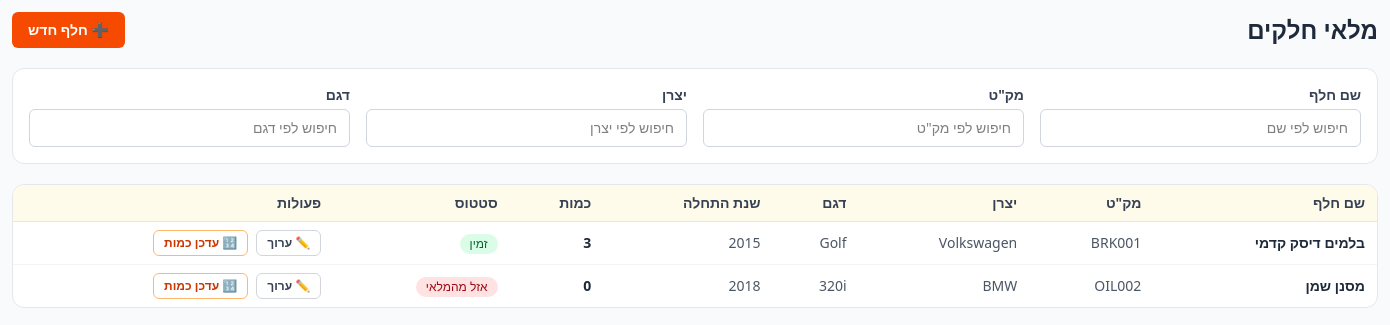
Test case: PartsPage — server-side search / filter › filters by part name using a backend query (partial)
Expected: the table is shown, [13,185,1377,307]
Type "מסנן" into the field labelled "שם חלף" at x=1200, y=128, box [1040,109,1361,147]
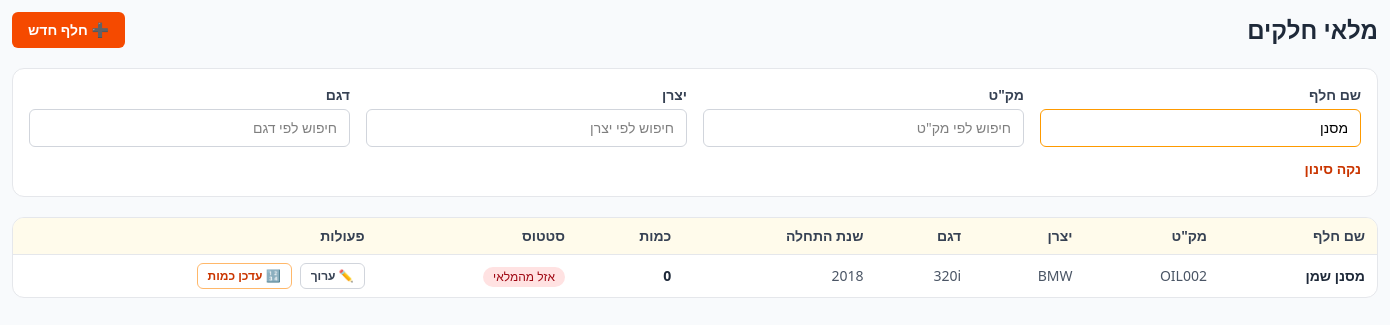
Expected: the text "מסנן שמן" is shown, [1219,254,1377,297]
Expected: the text "בלמים דיסק קדמי" is gone
